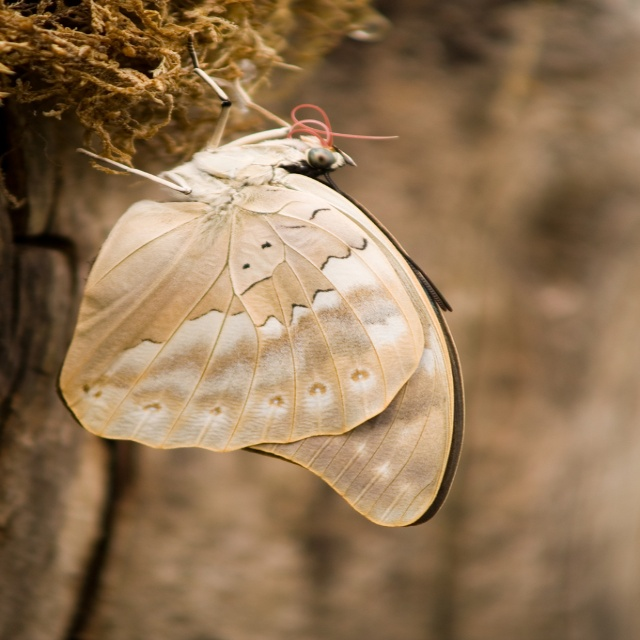Butterfly: (59, 31, 464, 525)
